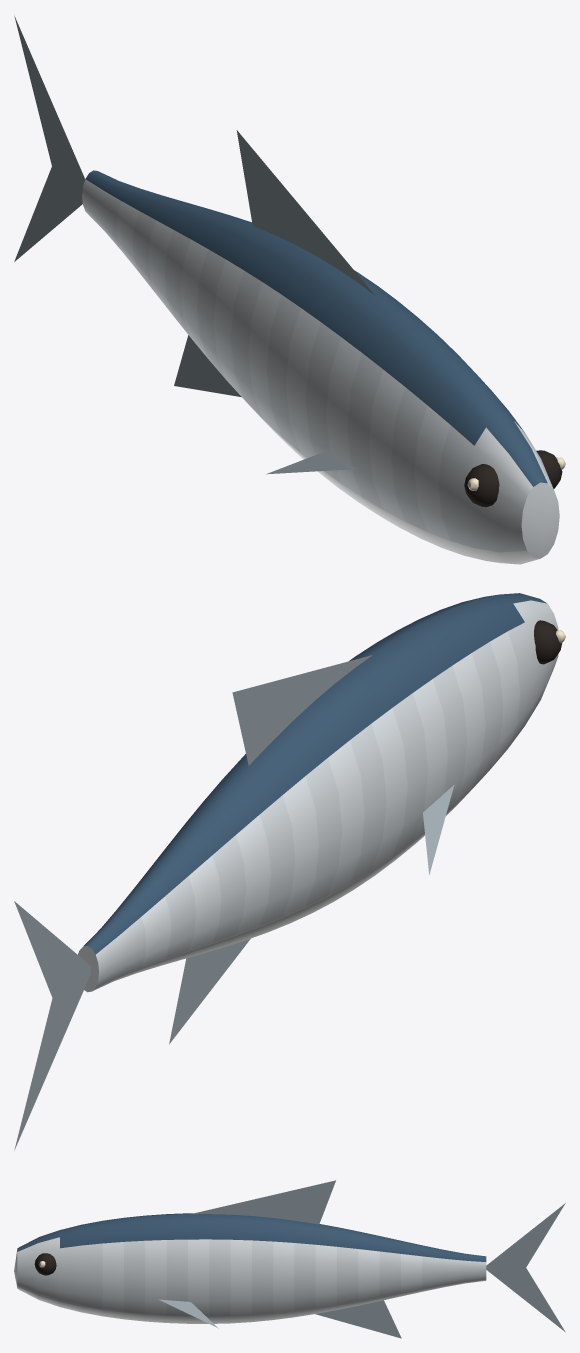
The model's file is tarpon.fbx.
The picture shows the model from 3 angles, top to bottom: view 1: azimuth 30°, elevation 25°; view 2: azimuth 150°, elevation 25°; view 3: azimuth 270°, elevation 25°; orthographic projection. The views are drawn at different scales.
Visible parts, largest first — view 1: Fish_tarpon_EXP; view 2: Fish_tarpon_EXP; view 3: Fish_tarpon_EXP.
Part boxes in pixels (left/top/right/bottom): Fish_tarpon_EXP: left=14, top=16, right=565, bottom=564; Fish_tarpon_EXP: left=14, top=593, right=565, bottom=1150; Fish_tarpon_EXP: left=14, top=1180, right=565, bottom=1338.
Size of the model in its own units: 0.1919 by 0.3355 by 1.06.
